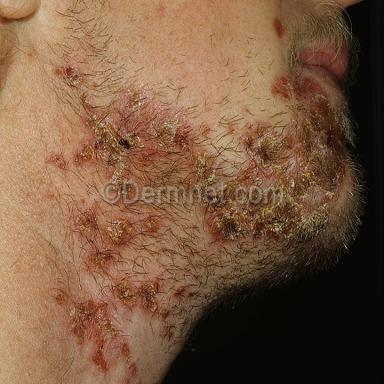Impetigo: (191, 70, 348, 241), (71, 86, 195, 182), (70, 299, 136, 382), (113, 280, 175, 339), (75, 207, 132, 269), (58, 66, 83, 86), (49, 153, 67, 170), (143, 216, 159, 232), (55, 291, 65, 304)
